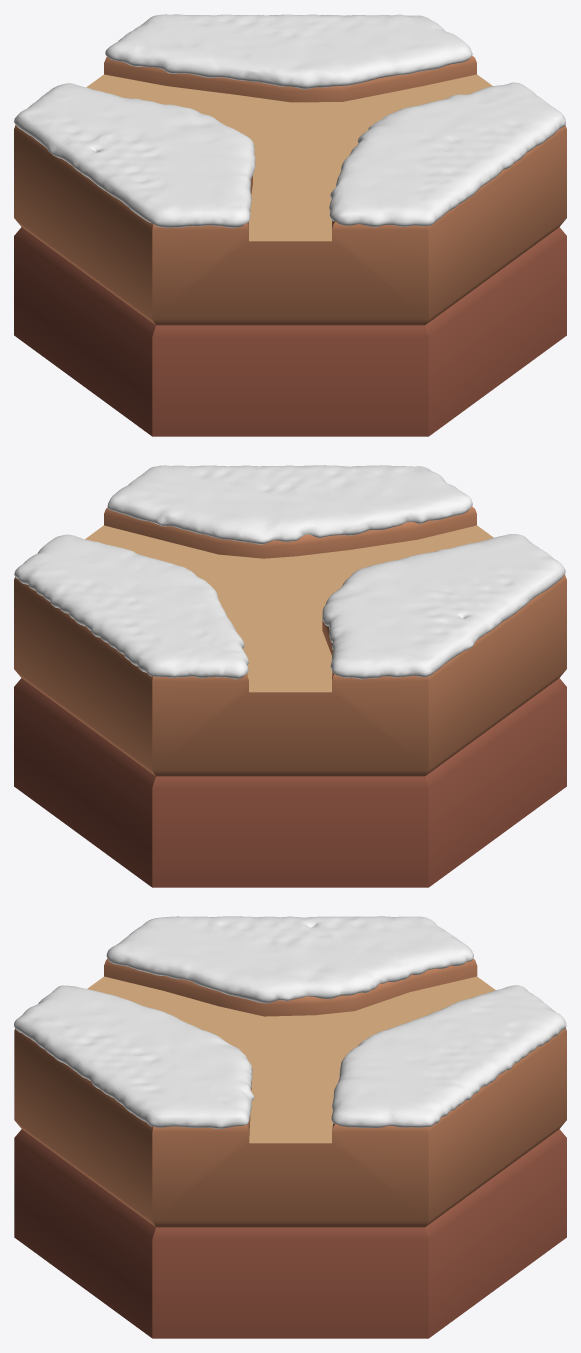
Rendered from hex_rock_roadG_detail.fbx.
3 renders of one model, top to bottom at view 1: azimuth 30°, elevation 25°; view 2: azimuth 150°, elevation 25°; view 3: azimuth 270°, elevation 25°, orthographic.
Parts seen in each view (by area): view 1: SnowBall.001, hex_rock_roadG_detail.002, hex_rock_roadG_detail.001, hex_rock_roadG_detail; view 2: SnowBall.001, hex_rock_roadG_detail.002, hex_rock_roadG_detail.001, hex_rock_roadG_detail; view 3: SnowBall.001, hex_rock_roadG_detail.002, hex_rock_roadG_detail.001, hex_rock_roadG_detail.
Boxes of the visible parts, box(x1,y1,x2,y2) form: SnowBall.001: box(14, 14, 565, 228); hex_rock_roadG_detail.002: box(14, 227, 566, 436); hex_rock_roadG_detail.001: box(14, 55, 566, 325); hex_rock_roadG_detail: box(87, 74, 492, 241); SnowBall.001: box(14, 465, 565, 679); hex_rock_roadG_detail.002: box(14, 678, 566, 887); hex_rock_roadG_detail.001: box(14, 506, 566, 776); hex_rock_roadG_detail: box(85, 525, 493, 692); SnowBall.001: box(14, 916, 566, 1128); hex_rock_roadG_detail.002: box(14, 1129, 566, 1338); hex_rock_roadG_detail.001: box(14, 959, 566, 1227); hex_rock_roadG_detail: box(87, 976, 495, 1143).
Bounding box in the file's own units: 203 × 103 × 231.
